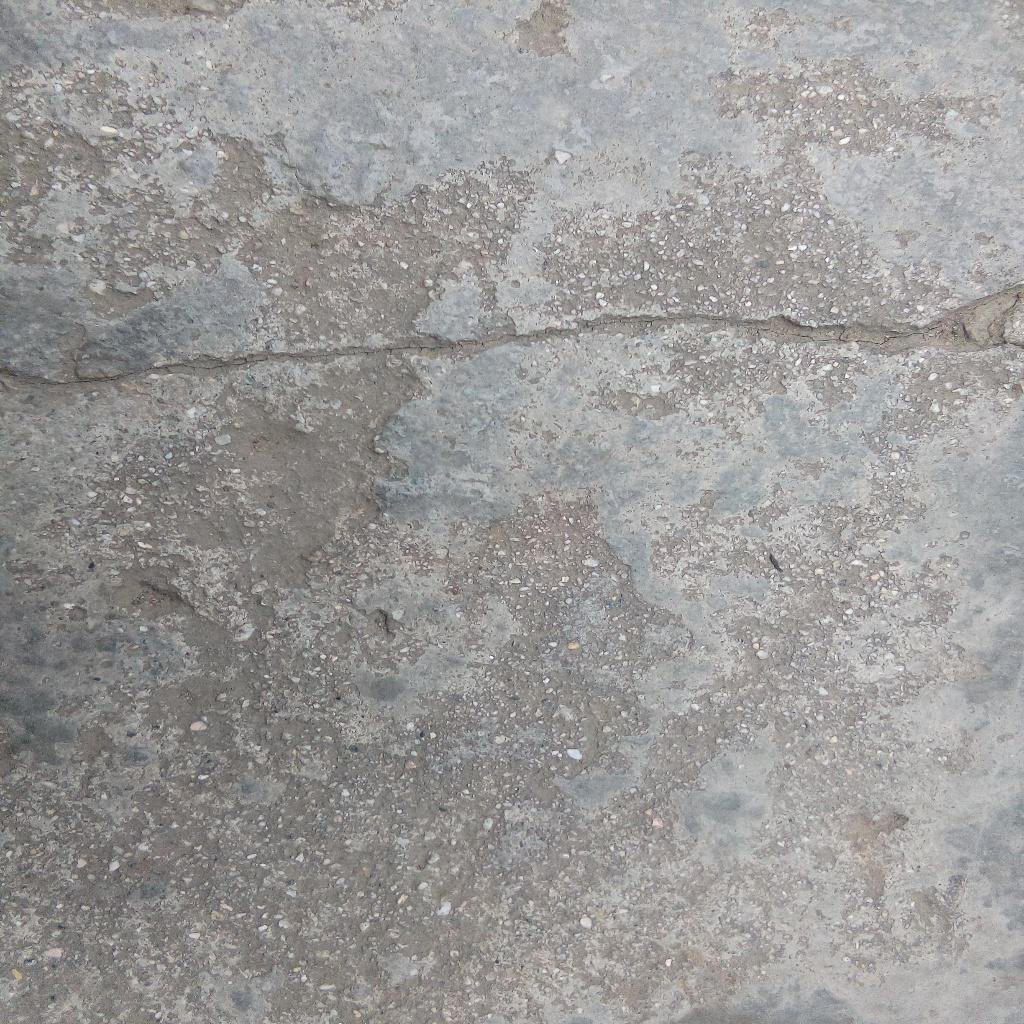Crack: (1, 284, 1024, 391)
